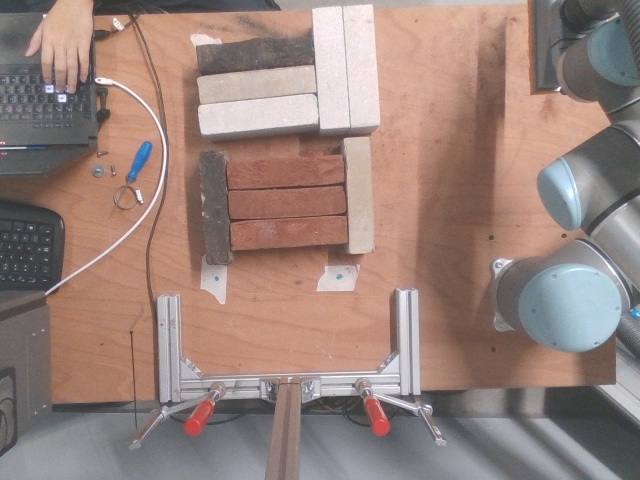brick-side: (198, 92, 318, 135), (198, 64, 318, 104), (195, 35, 315, 75), (343, 6, 383, 125), (311, 8, 350, 127), (231, 216, 346, 247), (226, 155, 341, 186), (229, 187, 342, 218), (200, 150, 231, 261), (345, 138, 374, 250)
